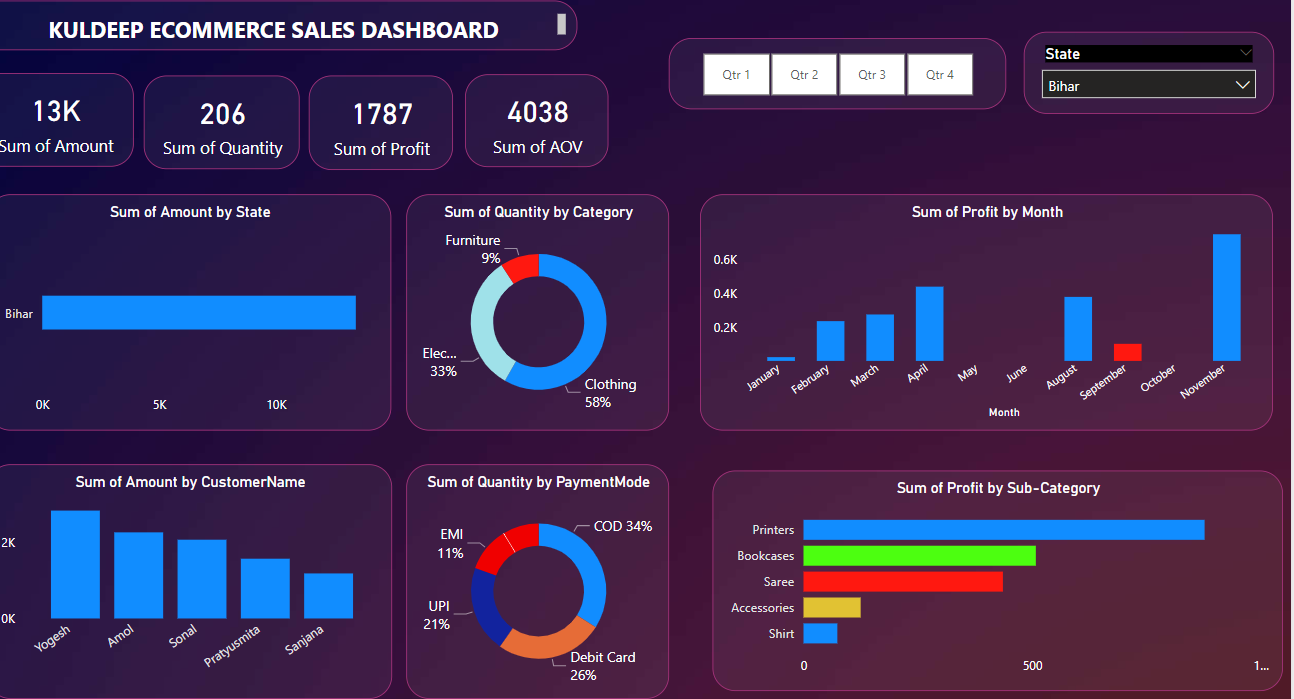

The page's visual inventory and layout, read from the dashboard file:
{"tool":"powerbi","page":{"name":"Page 1","canvas":[1280,720],"ordinal":0},"visuals":[{"type":"textbox","box":[10.9,12.1,580.1,48.2],"z":0},{"type":"barChart","fields":{"Category":["Details data.Sub-Category"],"Y":["Details data.Profit"]},"box":[721,465.5,550.3,212.7],"z":1000},{"type":"donutChart","fields":{"Category":["Details data.PaymentMode","Details data.Category"],"Y":["Details data.Quantity"]},"box":[425.4,459.7,253.9,226.4],"z":2000},{"type":"donutChart","fields":{"Category":["Details data.Category"],"Y":["Details data.Quantity"]},"box":[425.4,199,253.9,227.8],"z":3000},{"type":"card","fields":{"Values":["Details data.Amount"]},"box":[11.1,81.5,151.9,90.1],"z":4000},{"type":"card","fields":{"Values":["Details data.AOV"]},"box":[482.4,83.2,138.7,89.2],"z":5000},{"type":"card","fields":{"Values":["Details data.Quantity"]},"box":[172.8,84,150.6,90.1],"z":6000},{"type":"card","fields":{"Values":["Details data.Profit"]},"box":[332.1,84,139.5,91.4],"z":7000},{"type":"barChart","fields":{"Category":["Orders.State"],"Y":["Details data.Amount"]},"box":[22,199,389.7,227.8],"z":8000},{"type":"columnChart","fields":{"Category":["Orders.CustomerName"],"Y":["Details data.Amount"]},"box":[22,460,390,226],"z":9000},{"type":"slicer","fields":{"Values":["Orders.Order Date.Variation.Date Hierarchy.Quarter"]},"box":[679.2,48,325.2,68.6],"z":10000},{"type":"slicer","fields":{"Values":["Orders.State"]},"box":[1020.9,42.5,241.5,79.6],"z":11000},{"type":"columnChart","fields":{"Category":["Orders.Order Date.Variation.Date Hierarchy.Month"],"Y":["Details data.Profit"]},"box":[709.4,199,553,227.8],"z":12000}]}

Visuals, with their boxes on the page's 1280x720 design canvas (x1, y1, x2, y2). These are canvas units, not pixel positions in the 1294x699 screenshot, which may show the page scaled, cropped or inside an application window:
textbox: x1=11, y1=12, x2=591, y2=60
barChart - Details data.Sub-Category x Details data.Profit: x1=721, y1=466, x2=1271, y2=678
donutChart - Details data.PaymentMode x Details data.Category: x1=425, y1=460, x2=679, y2=686
donutChart - Details data.Category x Details data.Quantity: x1=425, y1=199, x2=679, y2=427
card - Details data.Amount: x1=11, y1=82, x2=163, y2=172
card - Details data.AOV: x1=482, y1=83, x2=621, y2=172
card - Details data.Quantity: x1=173, y1=84, x2=323, y2=174
card - Details data.Profit: x1=332, y1=84, x2=472, y2=175
barChart - Orders.State x Details data.Amount: x1=22, y1=199, x2=412, y2=427
columnChart - Orders.CustomerName x Details data.Amount: x1=22, y1=460, x2=412, y2=686
slicer - Orders.Order Date.Variation.Date Hierarchy.Quarter: x1=679, y1=48, x2=1004, y2=117
slicer - Orders.State: x1=1021, y1=42, x2=1262, y2=122
columnChart - Orders.Order Date.Variation.Date Hierarchy.Month x Details data.Profit: x1=709, y1=199, x2=1262, y2=427
